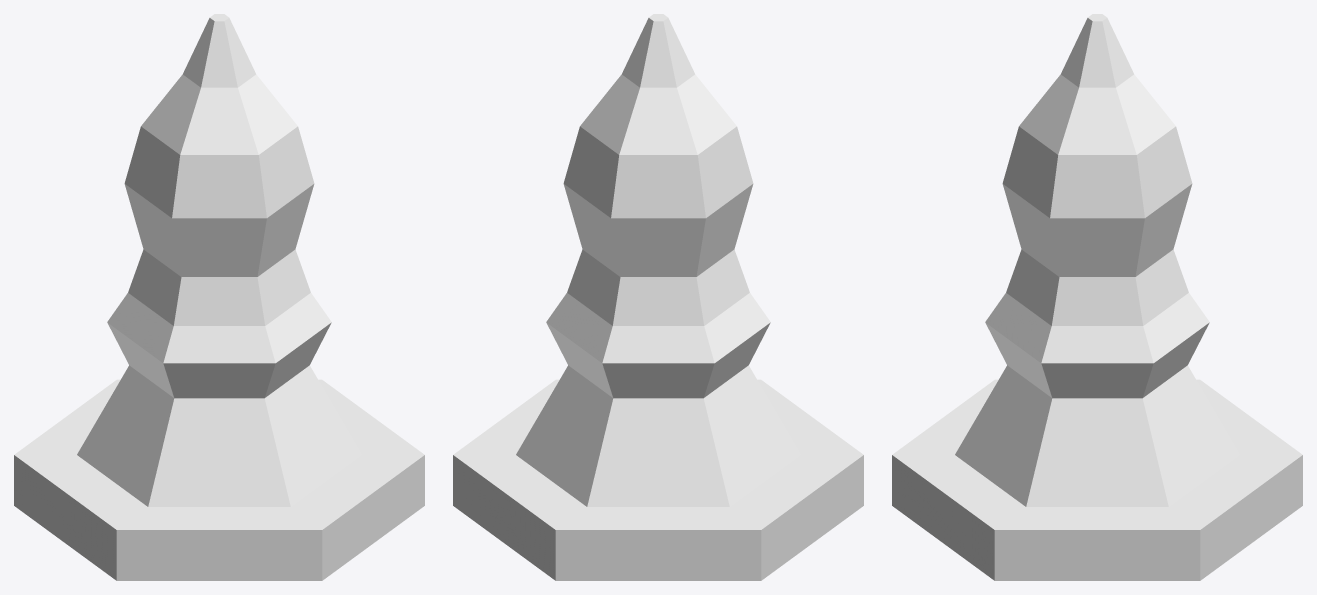
Rendered from chesspiecebishop01.obj.
The picture shows the model from 3 angles, left to right: view 1: azimuth 30°, elevation 25°; view 2: azimuth 150°, elevation 25°; view 3: azimuth 270°, elevation 25°; orthographic projection.
Visible parts, largest first — view 1: Cylinder.003_Cylinder.007; view 2: Cylinder.003_Cylinder.007; view 3: Cylinder.003_Cylinder.007.
Boxes of the visible parts, x1,y1,x2,y2 form: Cylinder.003_Cylinder.007: (14,14,424,580); Cylinder.003_Cylinder.007: (453,14,863,580); Cylinder.003_Cylinder.007: (892,14,1302,580).
Bounding box in the file's own units: 0.0225 × 0.0341 × 0.026.
